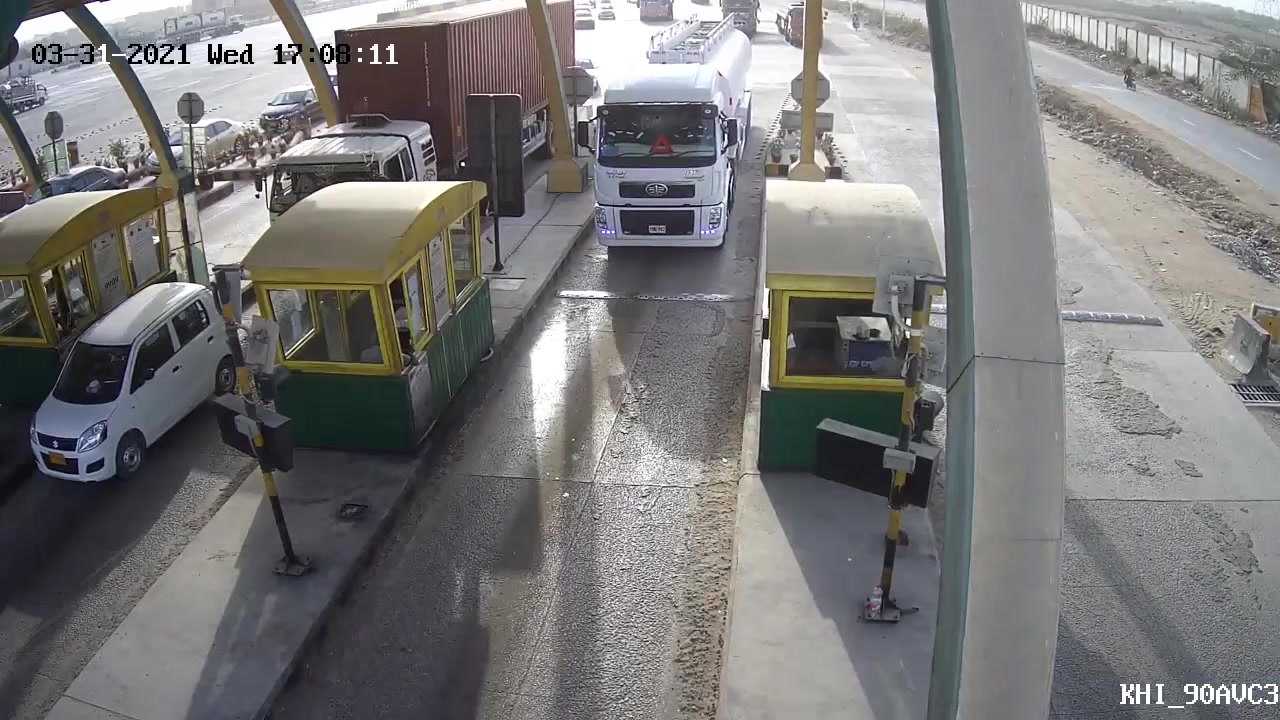F6: (560, 17, 765, 265)
